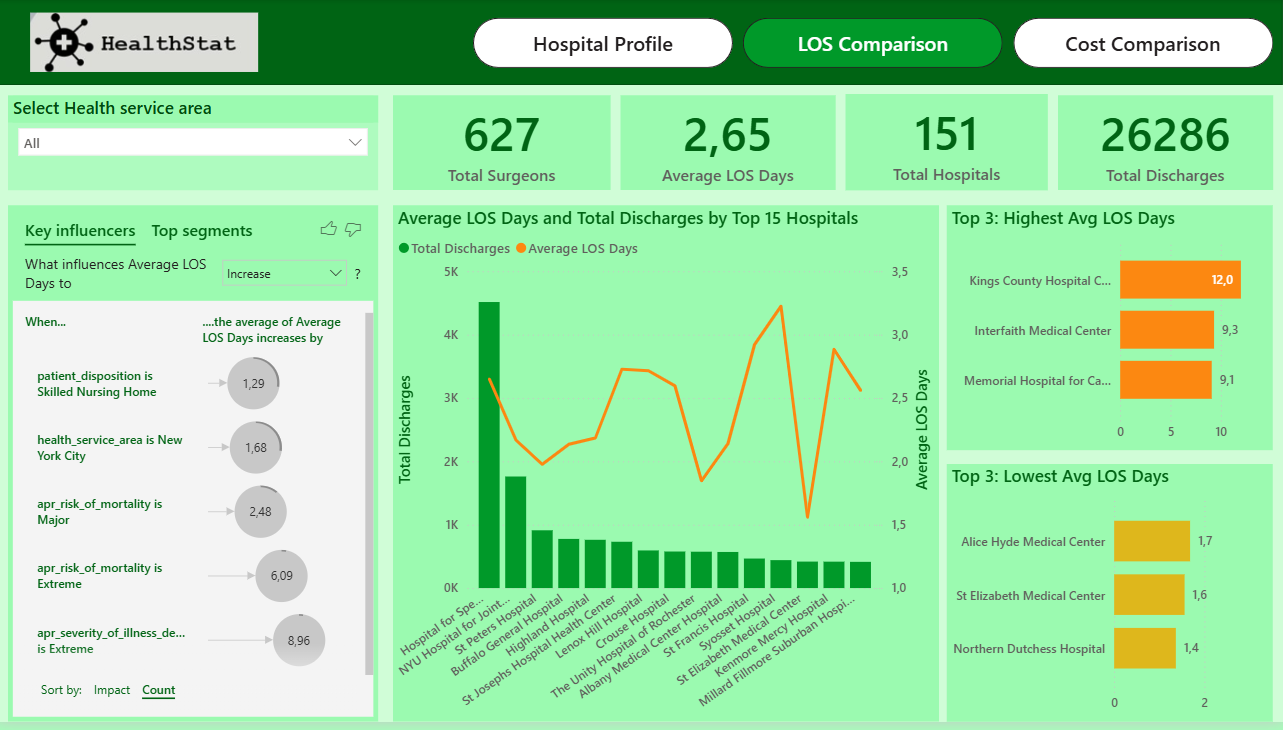

This screenshot's page, from the dashboard's own definition file:
{"tool":"powerbi","page":{"name":"LOS Comparison","canvas":[1280,720],"ordinal":1},"visuals":[{"type":"card","fields":{"Values":["_Measures.Total Surgeons"]},"box":[393.5,95.9,216.7,94.6],"z":0},{"type":"lineStackedColumnComboChart","title":"Average LOS Days and Total Discharges by Top 15 Hospitals","fields":{"Y":["_Measures.Total Discharges"],"Category":["hospital_discharges.facility_name"],"Y2":["_Measures.Average LOS Days"]},"box":[393.5,205.5,544.2,514.3],"z":1000},{"type":"slicer","title":"Select Health service area","fields":{"Values":["hospital_discharges.health_service_area"]},"box":[10,95.9,368.6,94.6],"z":2000},{"type":"keyDriversVisual","fields":{"ExplainBy":["Surgical_program_volume_summary.Surgical Program Size","hospital_discharges.health_service_area","hospital_discharges.gender","hospital_discharges.patient_disposition","hospital_discharges.ccs_diagnosis_description","hospital_discharges.apr_severity_of_illness_description","hospital_discharges.apr_risk_of_mortality","hospital_discharges.Age Bins"],"Target":["_Measures.Average LOS Days"]},"box":[10,205.5,368.6,514.3],"z":3000},{"type":"clusteredBarChart","title":"Top 3: Highest Avg LOS Days","fields":{"Y":["_Measures.Average LOS Days"],"Category":["hospital_discharges.facility_name"]},"box":[945.2,205.5,325,244.1],"z":4000},{"type":"clusteredBarChart","title":"Top 3: Lowest Avg LOS Days","fields":{"Y":["_Measures.Average LOS Days"],"Category":["hospital_discharges.facility_name"]},"box":[945.2,463.3,325,256.5],"z":5000},{"type":"card","fields":{"Values":["_Measures.Average LOS Days"]},"box":[620.2,95.9,214.2,94.6],"z":6000},{"type":"card","fields":{"Values":["_Measures.Total Hospitals"]},"box":[844.4,94.6,201.8,95.9],"z":7000},{"type":"card","fields":{"Values":["_Measures.Total Discharges"]},"box":[1056.1,95.9,214.2,94.6],"z":8000},{"type":"shape","box":[0,0,1280,85.7],"z":9000},{"type":"image","box":[0,8.4,290.8,68.8],"z":10000},{"type":"pageNavigator","box":[472.9,18.1,797.5,50.7],"z":11000}]}

Visuals, with their boxes in screenshot pixels (x1, y1, x2, y2), scaled from the page's 1280x720 canvas onto the 1283x730 screenshot:
card - _Measures.Total Surgeons: (394,97,612,193)
"Average LOS Days and Total Discharges by Top 15 Hospitals" lineStackedColumnComboChart: (394,208,940,729)
"Select Health service area" slicer: (10,97,379,193)
keyDriversVisual - Surgical_program_volume_summary.Surgical Program Size x hospital_discharges.health_service_area: (10,208,379,729)
"Top 3: Highest Avg LOS Days" clusteredBarChart: (947,208,1273,456)
"Top 3: Lowest Avg LOS Days" clusteredBarChart: (947,470,1273,729)
card - _Measures.Average LOS Days: (622,97,836,193)
card - _Measures.Total Hospitals: (846,96,1049,193)
card - _Measures.Total Discharges: (1059,97,1273,193)
shape: (0,0,1282,87)
image: (0,9,291,78)
pageNavigator: (474,18,1273,70)
